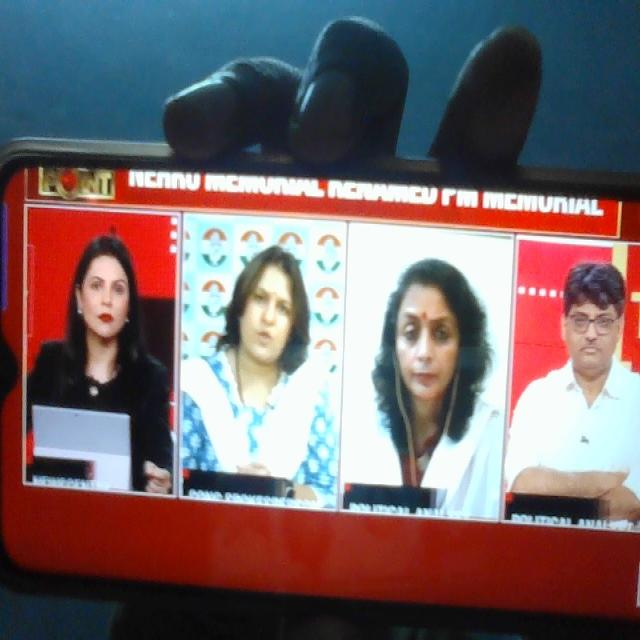fake: (369, 229, 484, 447)
